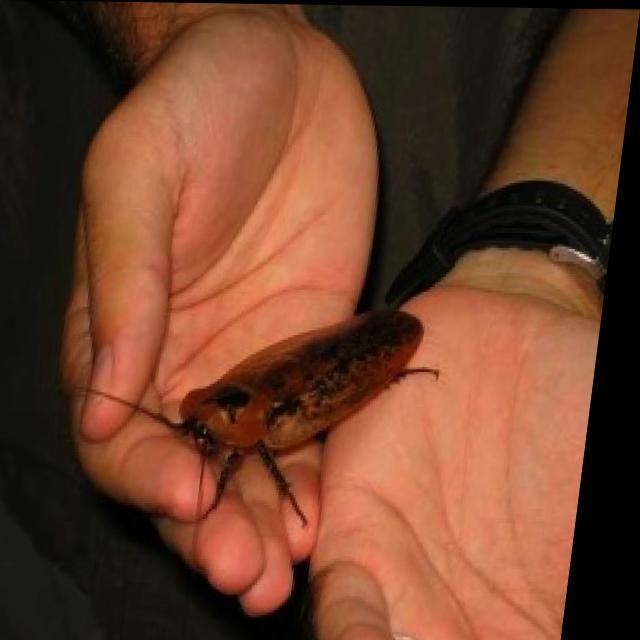cockroach: (134, 276, 472, 496)
